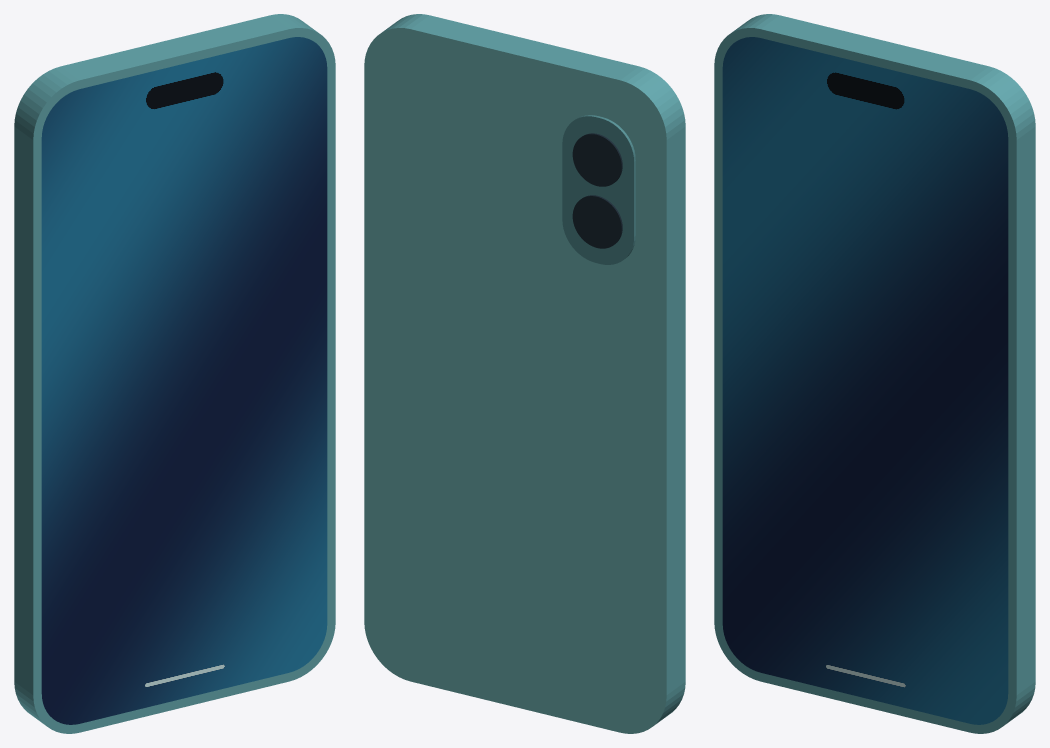
Rendered from earth3d-smartphone.glb.
3 renders of one model, left to right at view 1: azimuth 30°, elevation 25°; view 2: azimuth 150°, elevation 25°; view 3: azimuth 330°, elevation 25°, orthographic.
Visible parts, largest first — view 1: Screen within body envelope front, 147.6 by 71.6 mm body edge, 147.6 by 71.6 mm body front; view 2: 147.6 by 71.6 mm body back, 147.6 by 71.6 mm body edge, Authored camera island back, Illustrative camera lens back (×2); view 3: Screen within body envelope front, 147.6 by 71.6 mm body edge, 147.6 by 71.6 mm body front.
Part boxes in pixels (x1,y1,x2,y2): Screen within body envelope front: (41, 37, 327, 724); 147.6 by 71.6 mm body edge: (14, 14, 317, 725); 147.6 by 71.6 mm body front: (33, 28, 335, 733); 147.6 by 71.6 mm body back: (364, 28, 666, 733); 147.6 by 71.6 mm body edge: (382, 14, 685, 725); Authored camera island back: (562, 116, 633, 264); Illustrative camera lens back (×2): (572, 134, 621, 248); Screen within body envelope front: (722, 37, 1008, 724); 147.6 by 71.6 mm body edge: (732, 14, 1035, 725); 147.6 by 71.6 mm body front: (714, 28, 1016, 733).
Bounding box in the file's own units: 0.0716 × 0.1476 × 0.00895.
5 materials, 1 textured.
